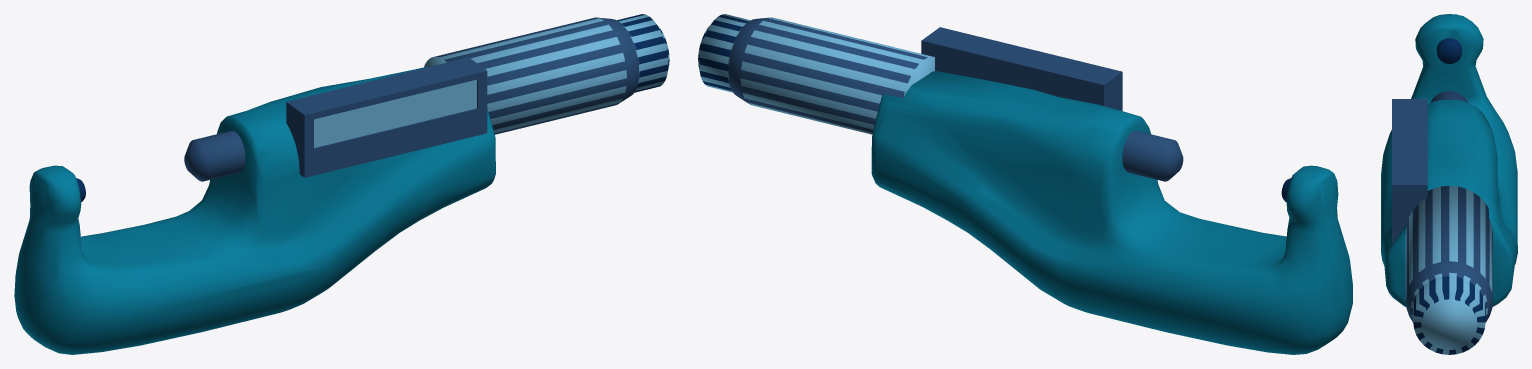
The model's file is screwGauge.glb.
3 views of the same model, side by side, from view 1: azimuth 30°, elevation 25°; view 2: azimuth 150°, elevation 25°; view 3: azimuth 270°, elevation 25° (orthographic). The views are drawn at different scales.
Visible parts, largest first — view 1: base, display, roller, scalepoint, finetune; view 2: base, roller, display, scalepoint, finetune; view 3: base, roller, finetune, display, scalepoint.
Boxes of the visible parts, <box> form: base: <box>14,67,495,354</box>; display: <box>286,57,487,177</box>; roller: <box>424,17,640,134</box>; scalepoint: <box>184,130,245,181</box>; finetune: <box>617,14,669,92</box>; base: <box>871,71,1352,354</box>; roller: <box>727,17,934,134</box>; display: <box>921,27,1122,110</box>; scalepoint: <box>1122,130,1183,181</box>; finetune: <box>698,14,750,92</box>; base: <box>1381,14,1517,306</box>; roller: <box>1405,185,1492,322</box>; finetune: <box>1413,276,1485,354</box>; display: <box>1392,99,1427,243</box>; scalepoint: <box>1430,91,1468,102</box>.
Size of the model in its own units: 12.31 by 3.9 by 2.4.
Materials: 2 (2 with a texture image).
